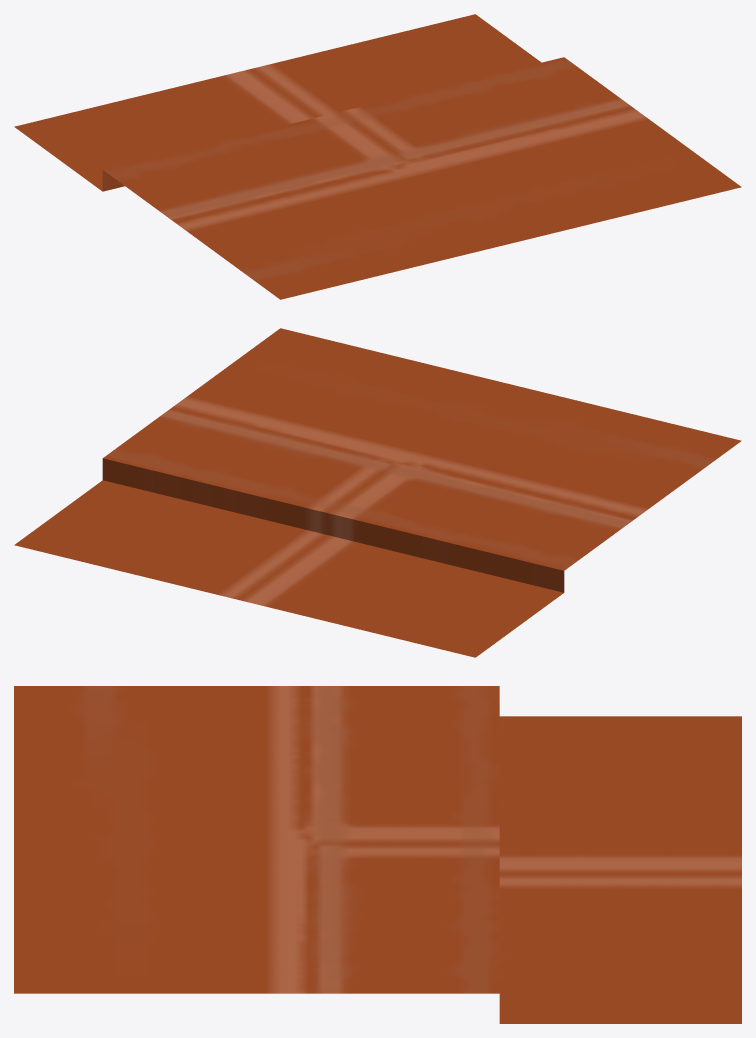
3 renders of one model, top to bottom at view 1: azimuth 30°, elevation 25°; view 2: azimuth 150°, elevation 25°; view 3: azimuth 270°, elevation 25°, orthographic. The views are drawn at different scales.
Parts seen in each view (by area): view 1: 平面; view 2: 平面; view 3: 平面.
Part boxes in pixels (box(x1,y1,x2,y2)): 平面: box(14, 14, 741, 299); 平面: box(14, 328, 741, 657); 平面: box(14, 686, 741, 1023).
Bounding box in the file's own units: 2000 × 90.95 × 2000.
1 material, 1 textured.
